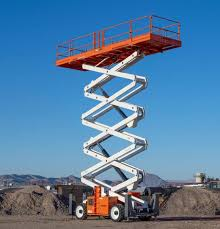Scissor Lift: (51, 14, 182, 223)
